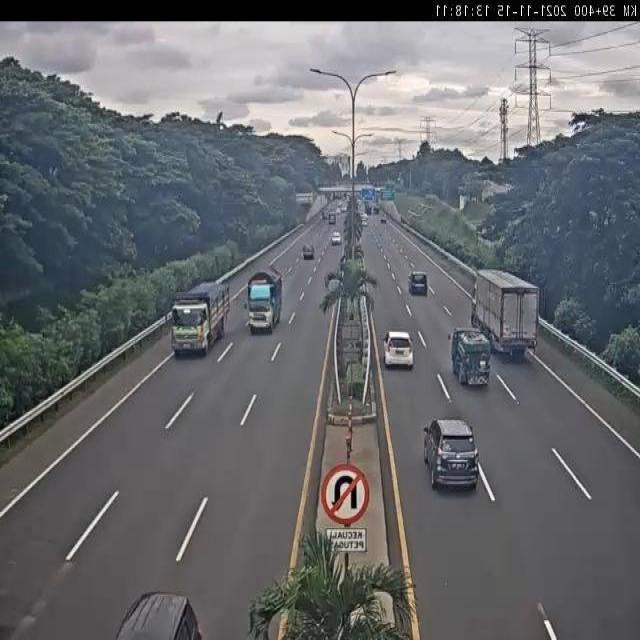Car: (421, 416, 479, 494), (381, 331, 415, 372), (331, 231, 342, 246)
Truck: (470, 268, 540, 357), (170, 281, 231, 358), (445, 326, 492, 390), (243, 266, 284, 336)
